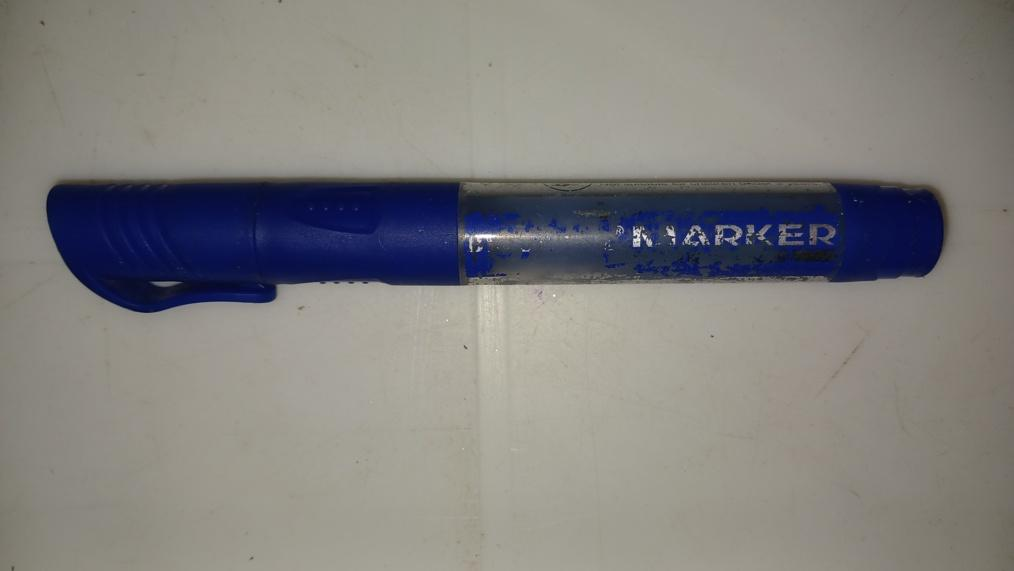Whiteboard marker: (46, 181, 947, 317)
